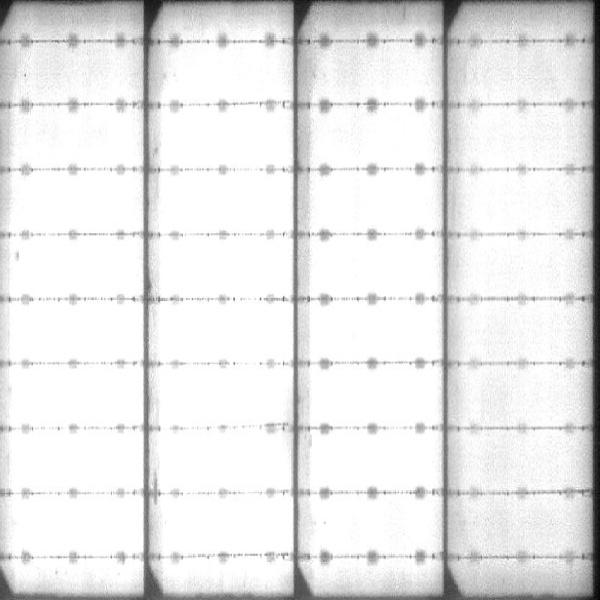hot_spot: (161, 500, 288, 552), (12, 373, 143, 422), (164, 176, 287, 228), (164, 434, 287, 486), (13, 179, 143, 228), (14, 435, 136, 487), (10, 309, 138, 358), (14, 499, 138, 549), (164, 306, 287, 356), (163, 242, 285, 291), (311, 242, 430, 291), (312, 504, 436, 551), (168, 372, 283, 422), (164, 115, 288, 161), (315, 373, 438, 419), (23, 243, 137, 291), (314, 177, 430, 223), (174, 51, 286, 98), (316, 438, 436, 481), (314, 307, 433, 349), (318, 125, 425, 154)
